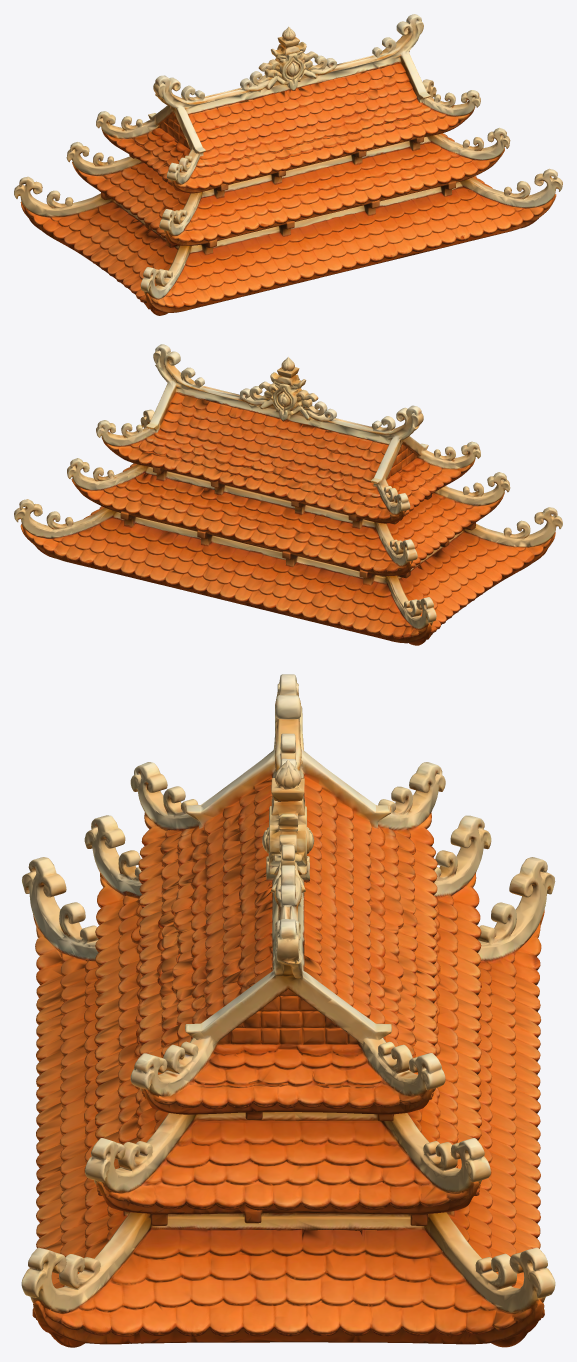
The model's file is roof.glb.
3 views of the same model, one above another, from view 1: azimuth 30°, elevation 25°; view 2: azimuth 150°, elevation 25°; view 3: azimuth 270°, elevation 25° (orthographic). The views are drawn at different scales.
Visible parts, largest first — view 1: tripo_node_b5cd6283-b450-4484-8415-67844cb24e3d; view 2: tripo_node_b5cd6283-b450-4484-8415-67844cb24e3d; view 3: tripo_node_b5cd6283-b450-4484-8415-67844cb24e3d.
Boxes of the visible parts, x1,y1,x2,y2 form: tripo_node_b5cd6283-b450-4484-8415-67844cb24e3d: (14, 14, 562, 315); tripo_node_b5cd6283-b450-4484-8415-67844cb24e3d: (14, 344, 562, 645); tripo_node_b5cd6283-b450-4484-8415-67844cb24e3d: (21, 674, 555, 1347).
Bounding box in the file's own units: 0.9815 × 0.4599 × 0.5371.
1 material, 1 textured.
